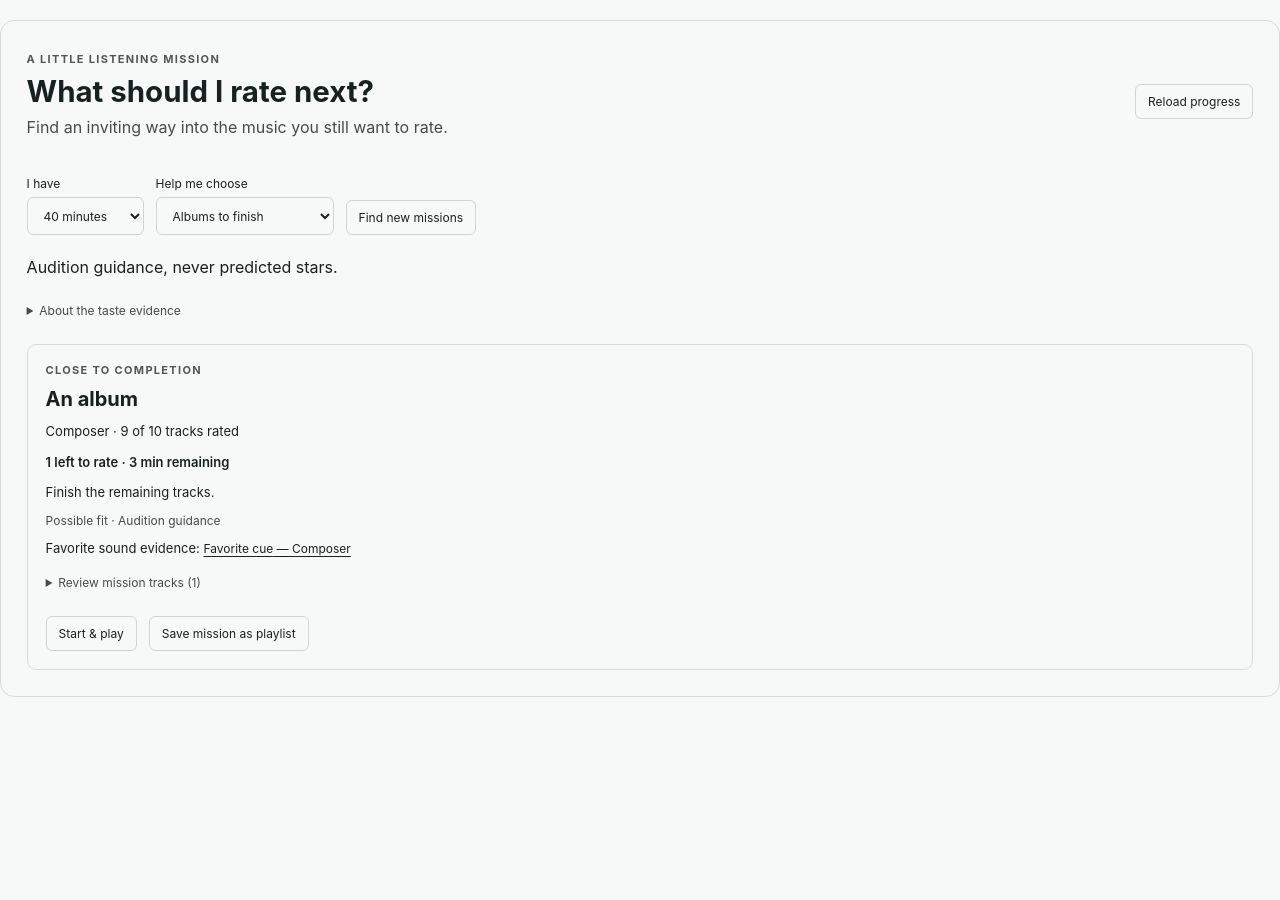
Scenario: starts a persisted mission and plays only the freshly reloaded unrated tracks
Click the button "Start & play" at [91, 634], box x1=46 y1=616 x2=137 y2=651
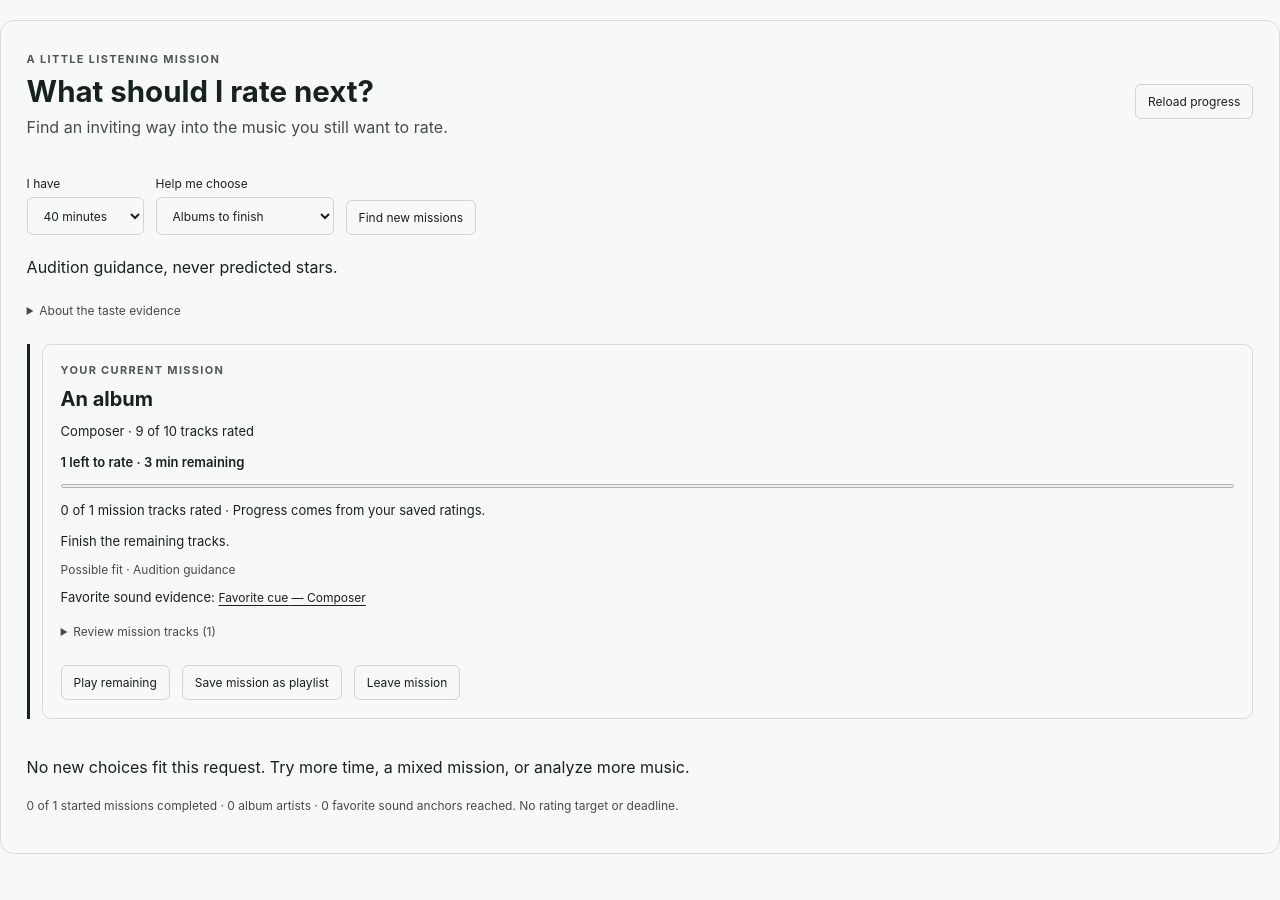
Click the button "Play remaining" at [115, 682], box x1=61 y1=665 x2=170 y2=700
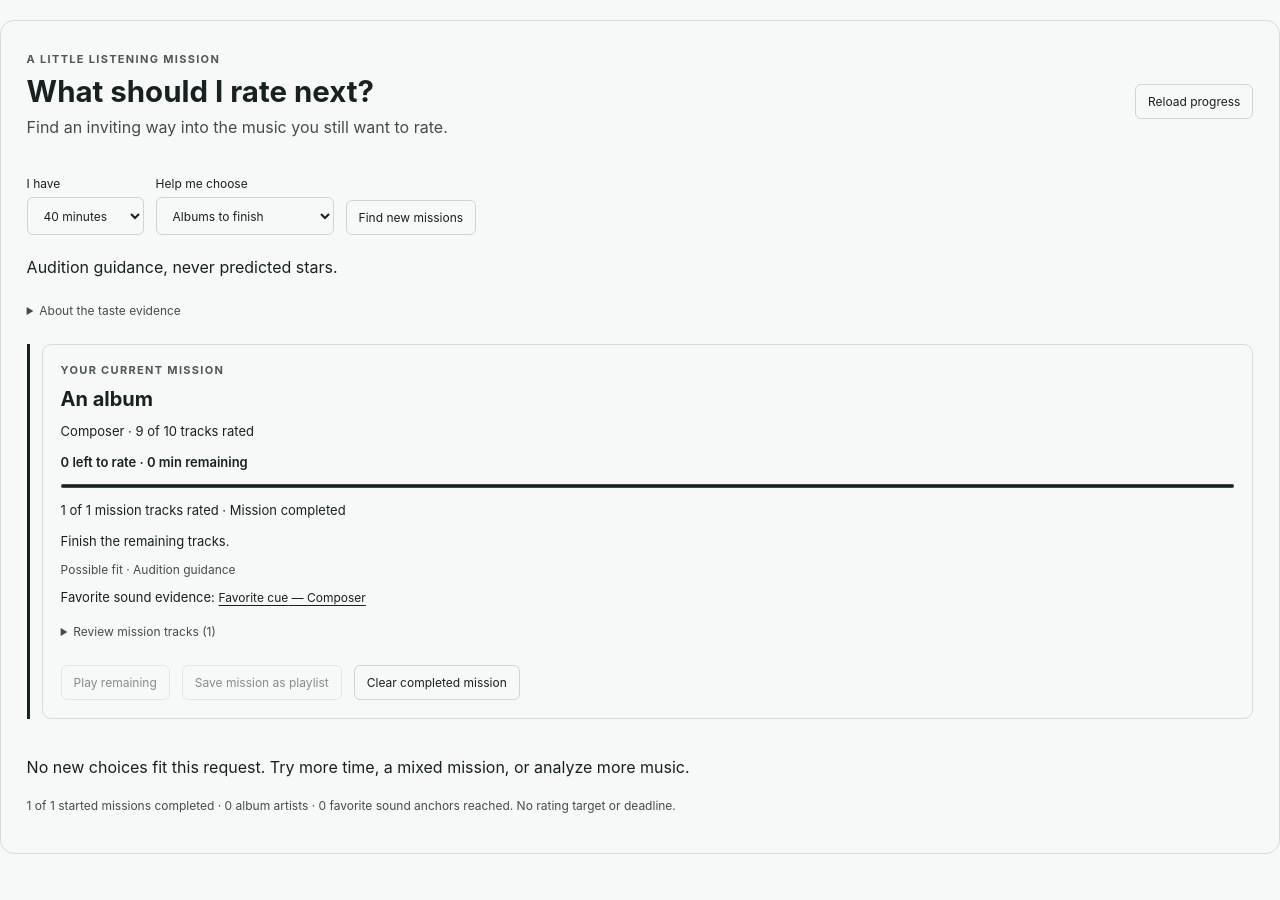
Check: the text "1 of 1 mission tracks rated · Mission completed" is shown, box x1=61 y1=502 x2=346 y2=518
Check: the button "Play remaining" is disabled, box x1=61 y1=665 x2=170 y2=700
Check: the text "1 of 1 started missions completed" is shown, box x1=27 y1=798 x2=676 y2=813
